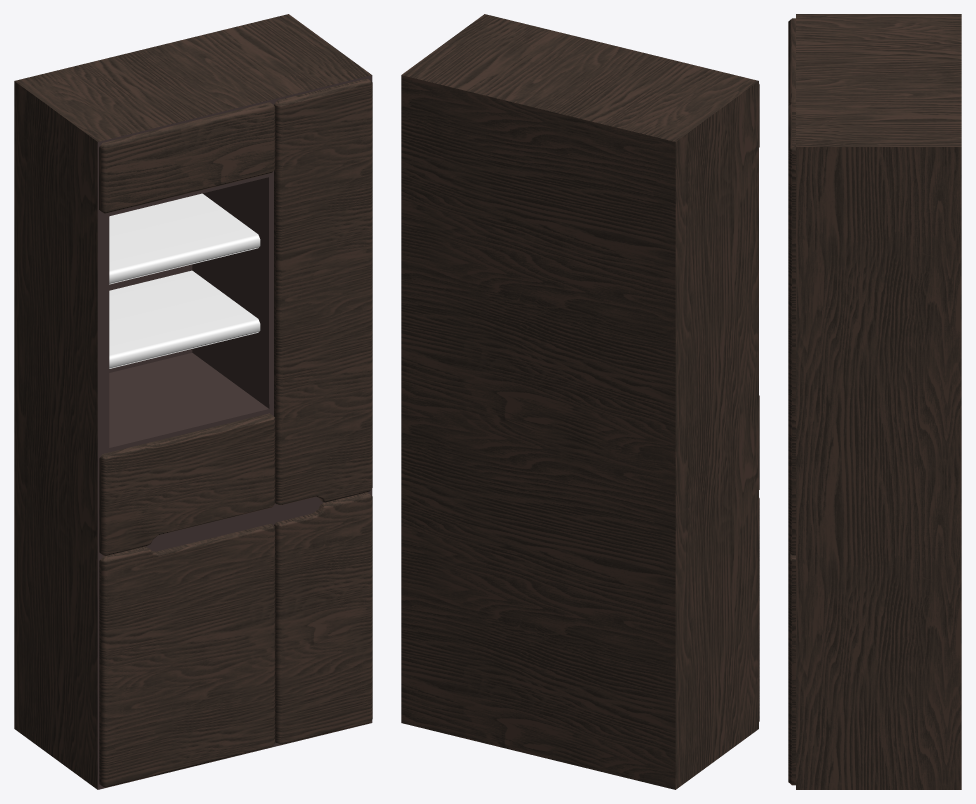
The model's file is wall_cabinet_034.fbx.
The picture shows the model from 3 angles, left to right: view 1: azimuth 30°, elevation 25°; view 2: azimuth 150°, elevation 25°; view 3: azimuth 270°, elevation 25°; orthographic projection.
Parts seen in each view (by area): view 1: wall_cabinet_034; view 2: wall_cabinet_034; view 3: wall_cabinet_034.
Part boxes in pixels (x1,y1,x2,y2): wall_cabinet_034: (14, 14, 372, 789); wall_cabinet_034: (401, 14, 759, 789); wall_cabinet_034: (788, 14, 961, 789).
Bounding box in the file's own units: 120 × 66.51 × 272.
